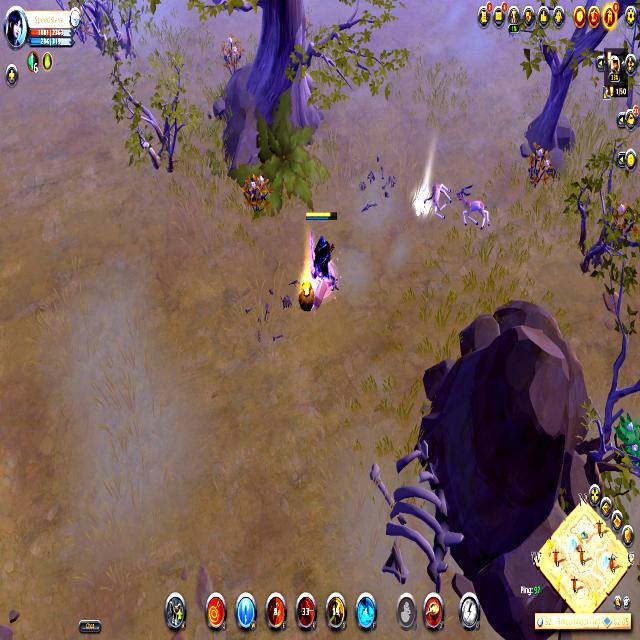hide: (521, 137, 558, 195), (611, 406, 639, 467), (242, 170, 272, 220), (219, 32, 247, 77)
mob: (456, 183, 498, 234), (423, 174, 452, 222)
red: (302, 206, 340, 308)
